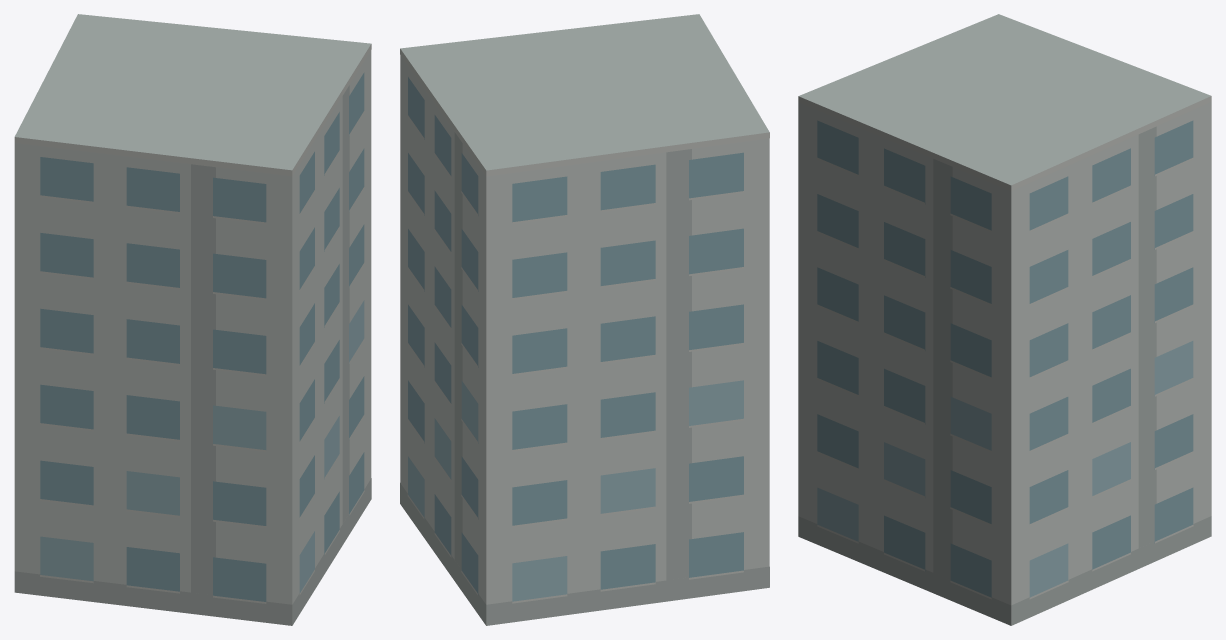
File: survey-upis-32748557.glb
The picture shows the model from 3 angles, left to right: view 1: azimuth 30°, elevation 25°; view 2: azimuth 150°, elevation 25°; view 3: azimuth 270°, elevation 25°; orthographic projection. The views are drawn at different scales.
Visible parts, largest first — view 1: survey-upis-32748557.tmp; view 2: survey-upis-32748557.tmp; view 3: survey-upis-32748557.tmp.
Part boxes in pixels (x1,y1,x2,y2): survey-upis-32748557.tmp: (14,14,371,625); survey-upis-32748557.tmp: (400,14,769,625); survey-upis-32748557.tmp: (798,14,1211,625).
Size of the model in its own units: 15.2 by 18.2 by 15.49.
